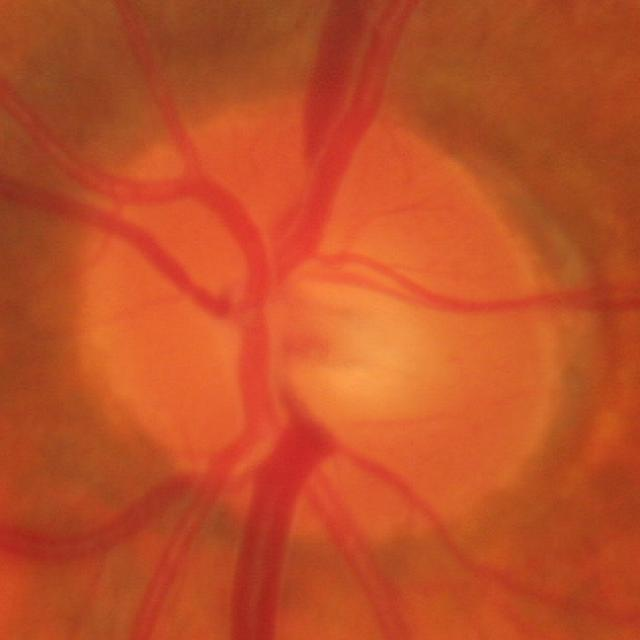OC: (258, 253, 439, 421)
OD: (67, 107, 560, 541)
